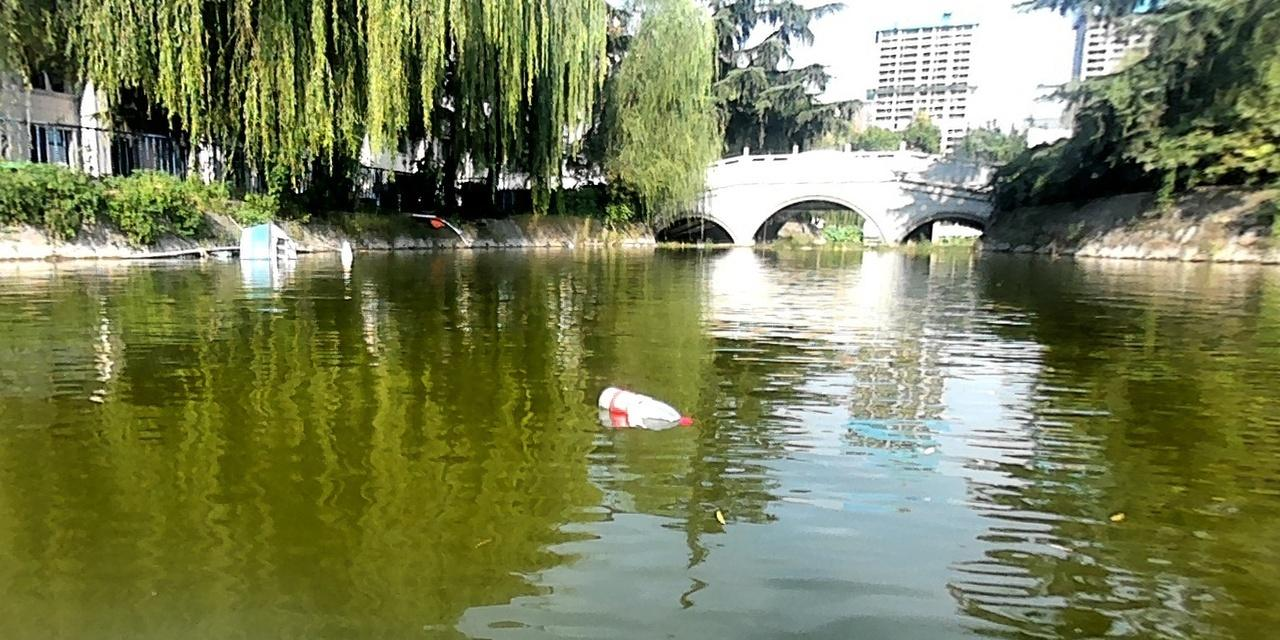bottle: (597, 386, 688, 422)
